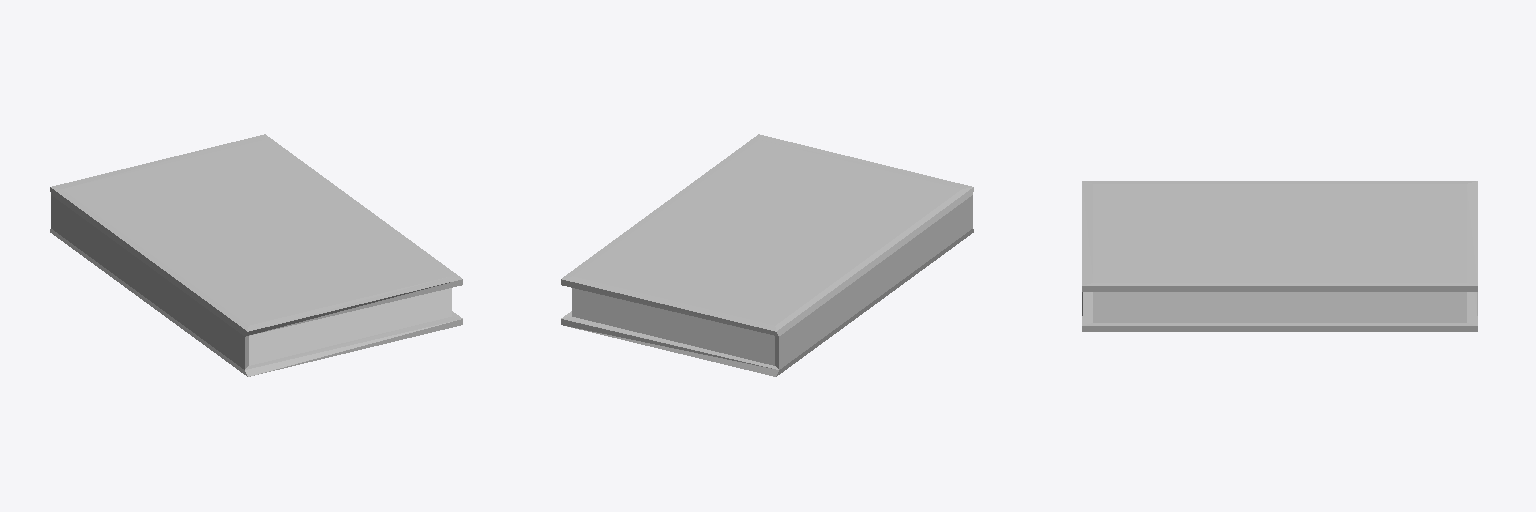
Rendered from BookStyle10.obj.
The picture shows the model from 3 angles: view 1: azimuth 30°, elevation 25°; view 2: azimuth 150°, elevation 25°; view 3: azimuth 270°, elevation 25°; orthographic projection.
Visible parts, largest first — view 1: Plane.001; view 2: Plane.001; view 3: Plane.001.
Boxes of the visible parts, x1=… form: Plane.001: x1=50, y1=134, x2=462, y2=376; Plane.001: x1=561, y1=134, x2=973, y2=376; Plane.001: x1=1082, y1=181, x2=1477, y2=331.
Bounding box in the file's own units: 1.64 × 0.335 × 2.6.